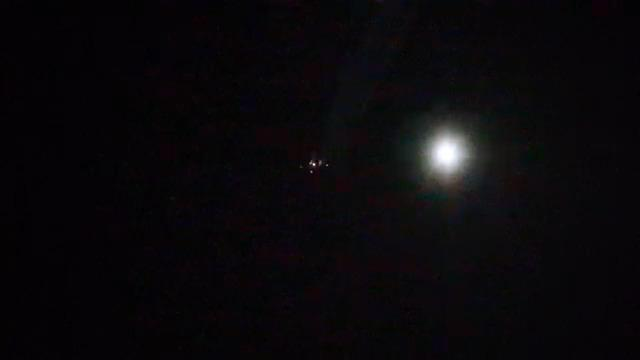Plane: (294, 125, 353, 180)
